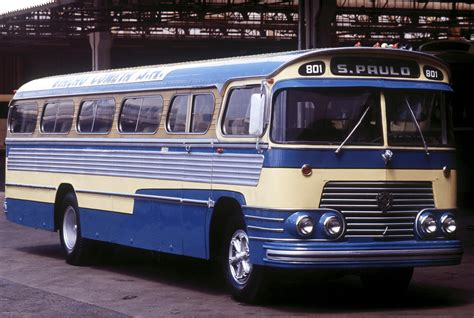bus: (9, 54, 462, 289)
